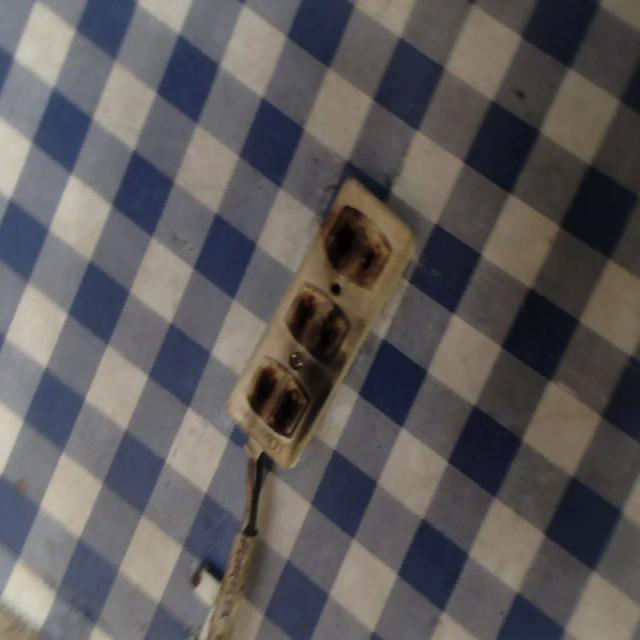-: (282, 277, 352, 372), (321, 201, 393, 288), (244, 355, 311, 441)
